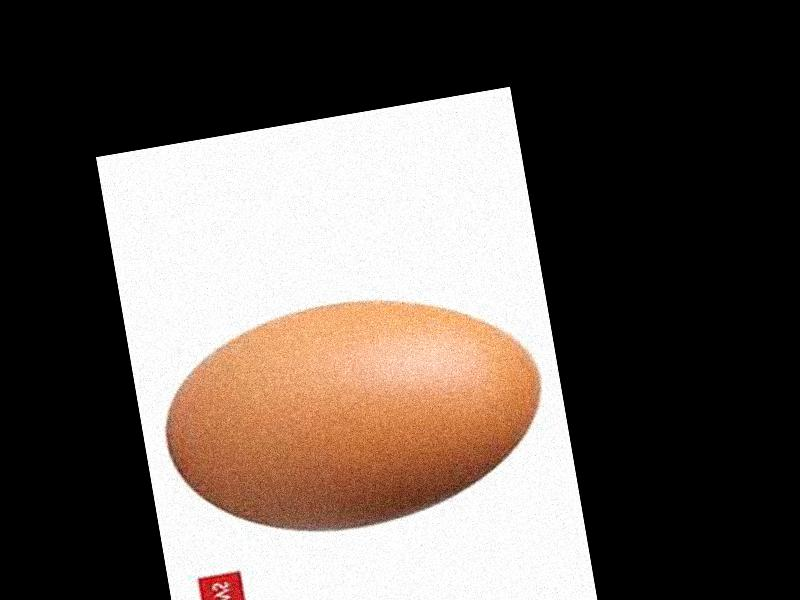Eggs: (151, 272, 556, 555)
